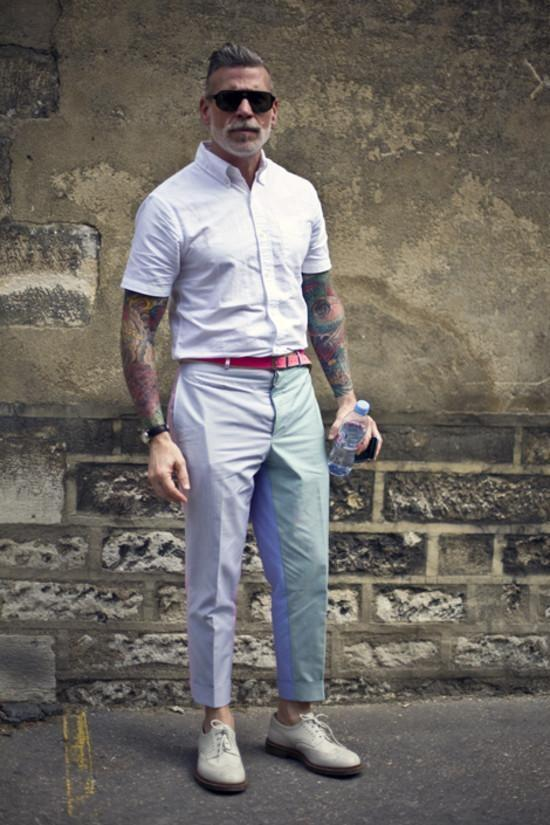pants: (169, 352, 330, 708)
shirt: (120, 138, 334, 362)
